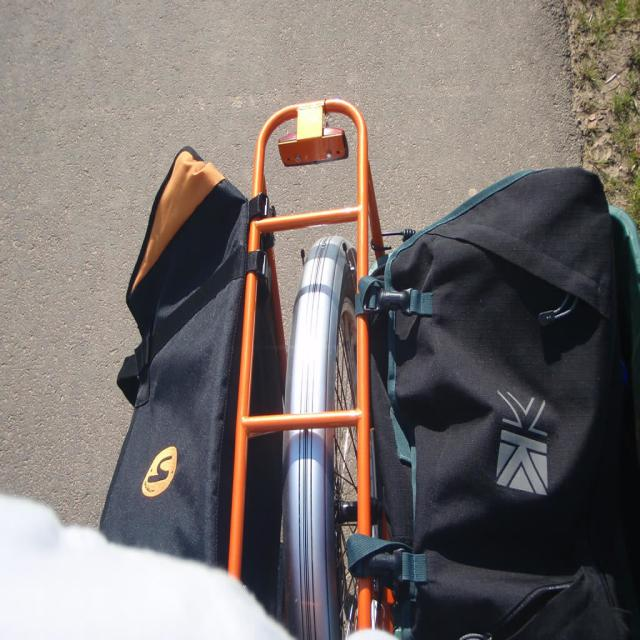backpack: (369, 154, 627, 639), (70, 167, 280, 601)
